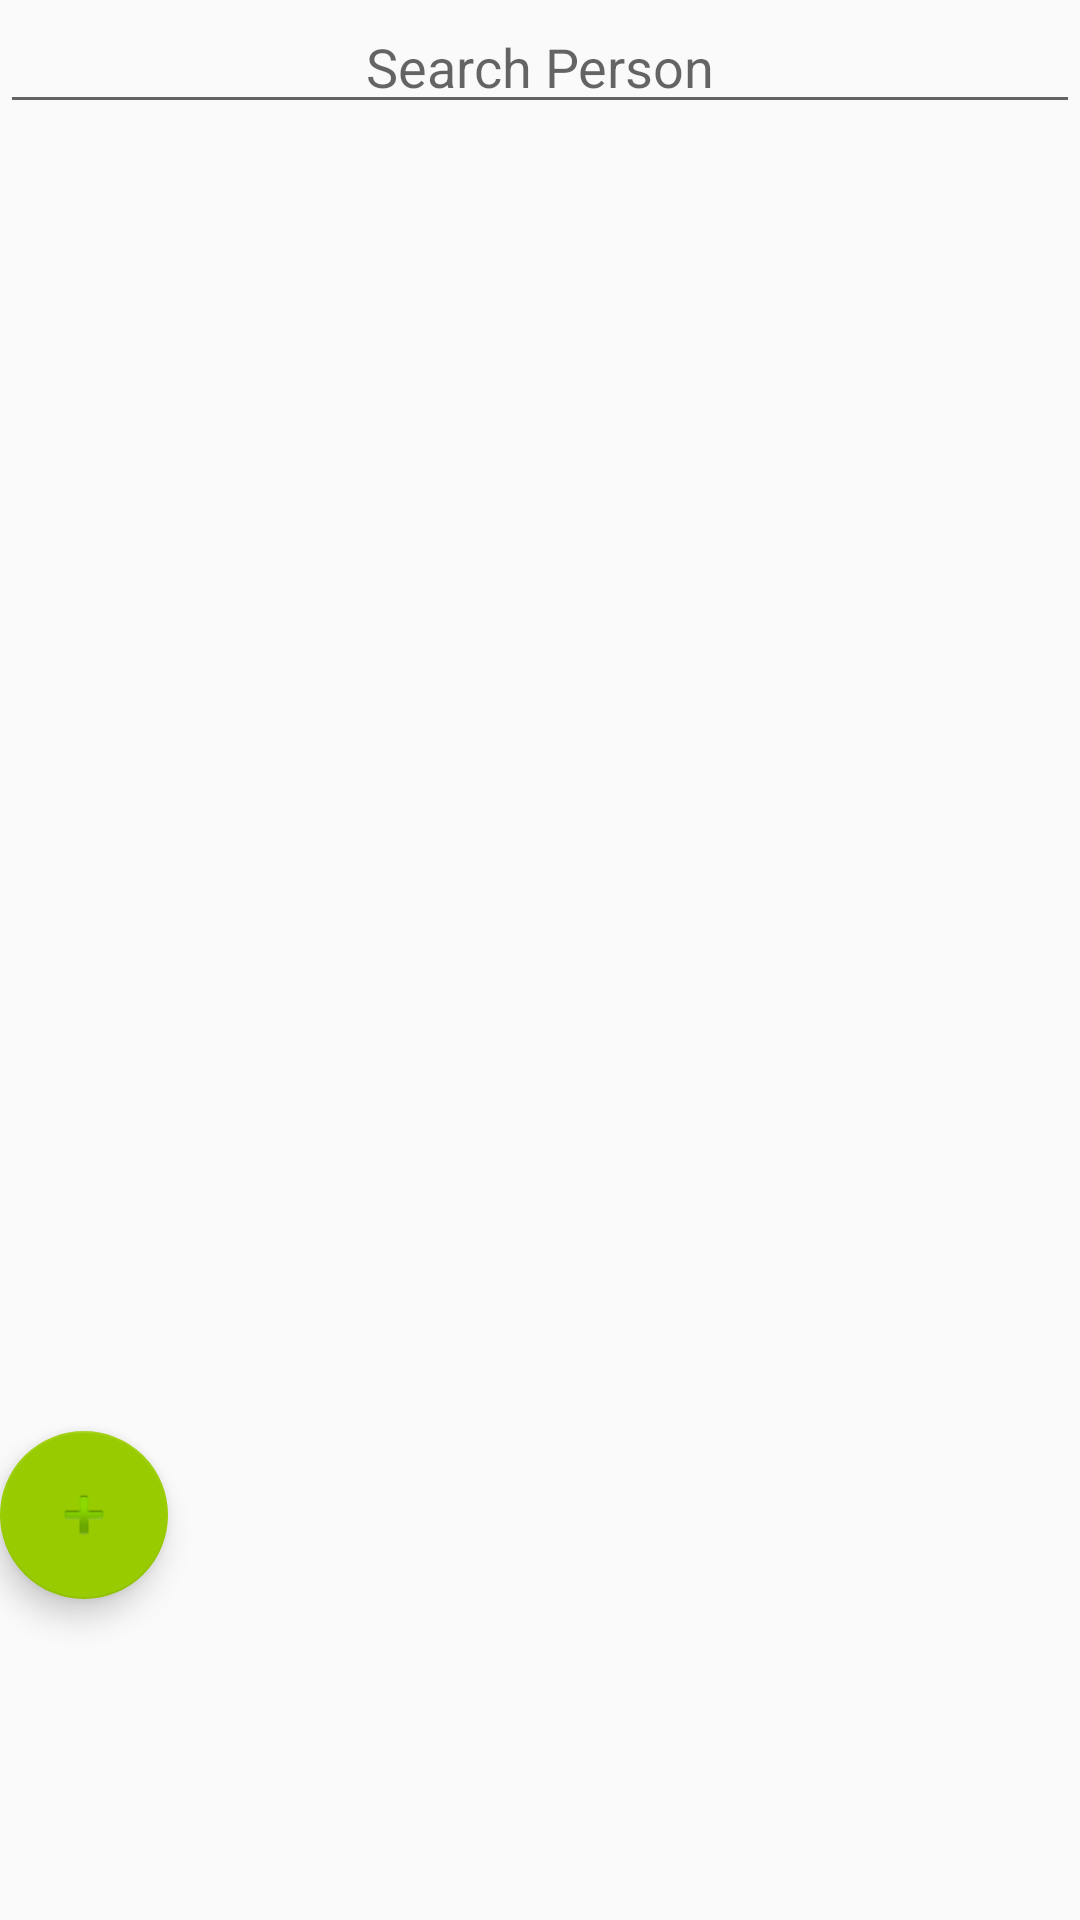

Screen size 1080x1920. Icon name, then its box in pixels as (x1, y1, x2, y2):
add: (0, 1431, 168, 1599)
